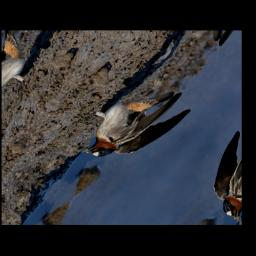Swallow: (61, 66, 200, 177)
